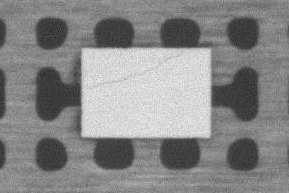DIE_CRACK: (89, 51, 184, 89)
